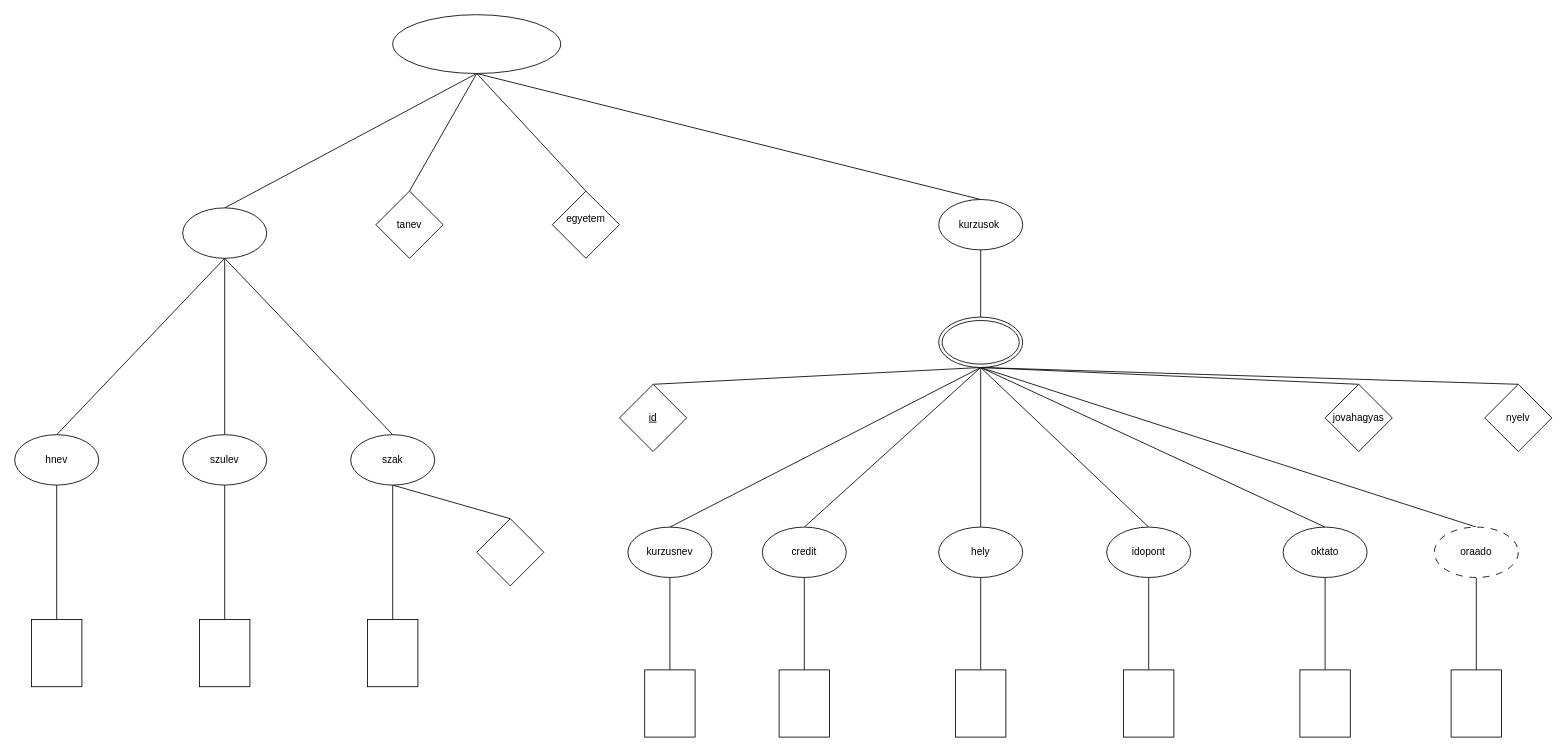
Some shapes in this 1567 by 752 pixel diagram are drawn without their labels. Each missing label, with the centre of its shape:
evf: pixel 510 552
hallgato: pixel 224 232
kurzus: pixel 980 342
ZVPGTZ_kurzusfelvetel: pixel 476 44
